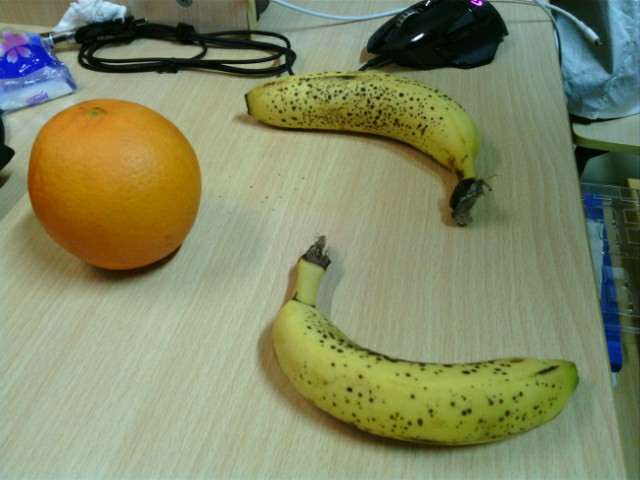normal_banana: (271, 234, 583, 445), (243, 70, 484, 229)
normal_orange: (29, 99, 201, 268)
